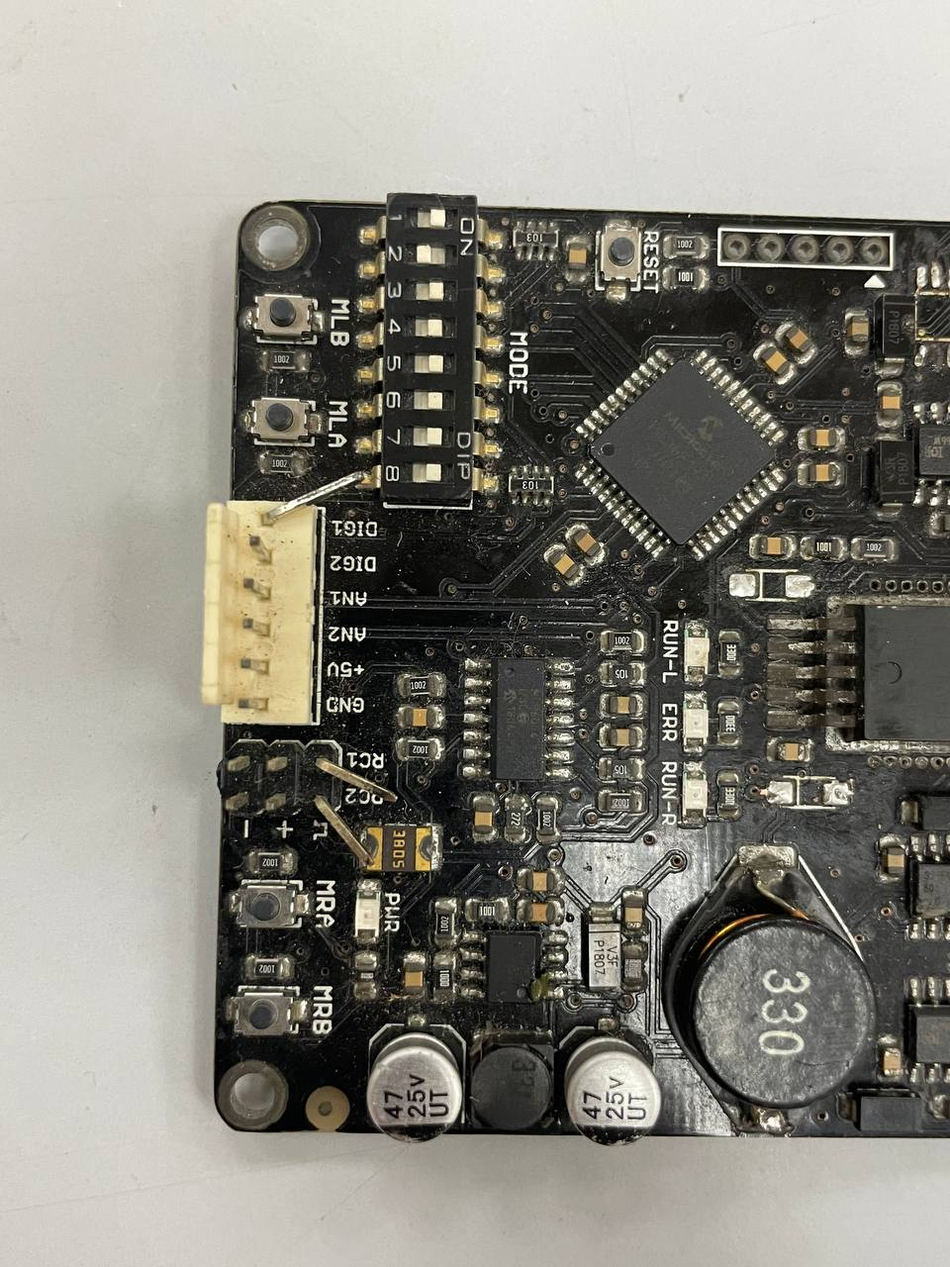bent_pin: (257, 463, 372, 530), (304, 787, 392, 873), (308, 746, 401, 806)
missing_comp: (769, 774, 850, 815), (731, 568, 814, 605)
